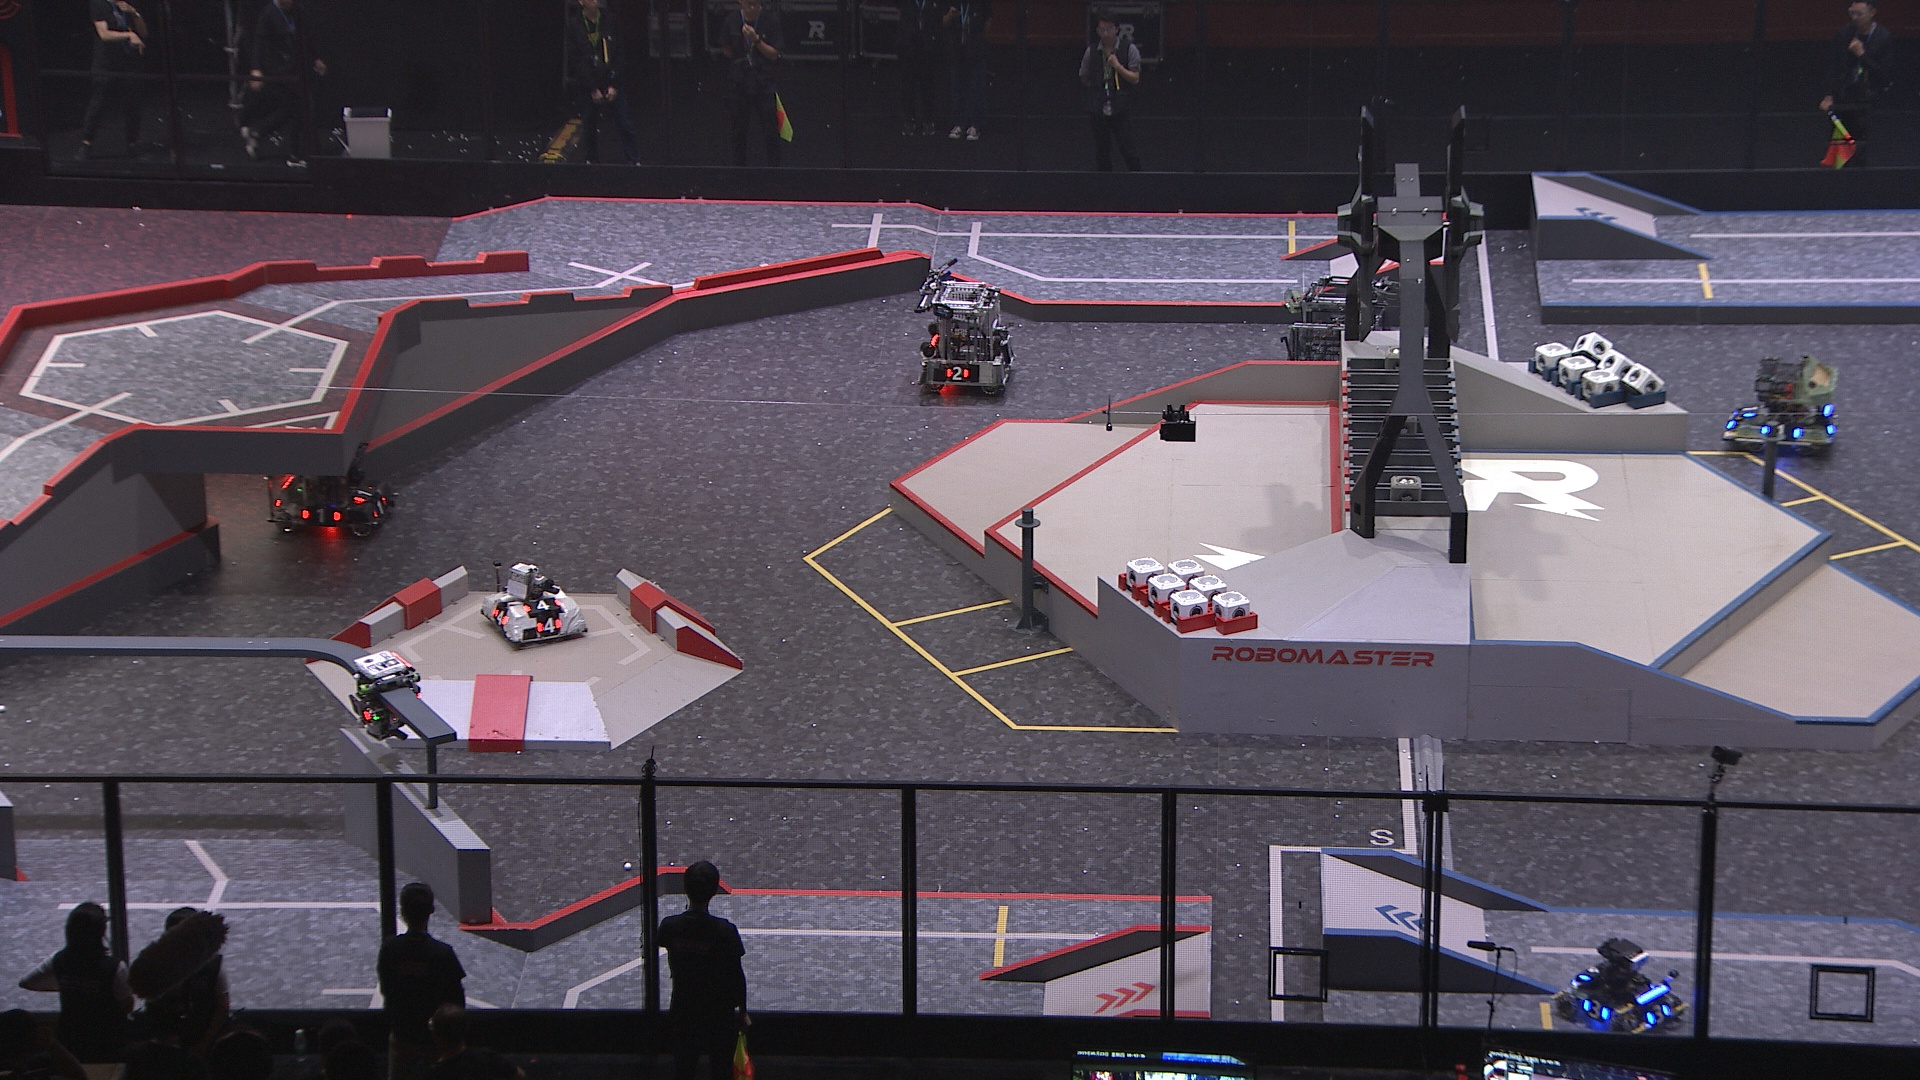armor: (301, 505, 347, 529), (344, 694, 375, 728), (1759, 422, 1803, 444), (1642, 1000, 1673, 1029), (520, 593, 564, 613), (533, 612, 567, 637), (1580, 998, 1611, 1025), (944, 363, 975, 385), (1578, 959, 1604, 982), (371, 493, 392, 520), (352, 484, 373, 506), (491, 604, 510, 628), (1741, 401, 1764, 419), (1722, 409, 1738, 429)
car: (262, 423, 396, 546), (1552, 931, 1697, 1043), (1280, 272, 1400, 392), (1721, 351, 1840, 462), (913, 280, 1021, 400), (477, 553, 591, 647)
watcher: (344, 646, 423, 744)
